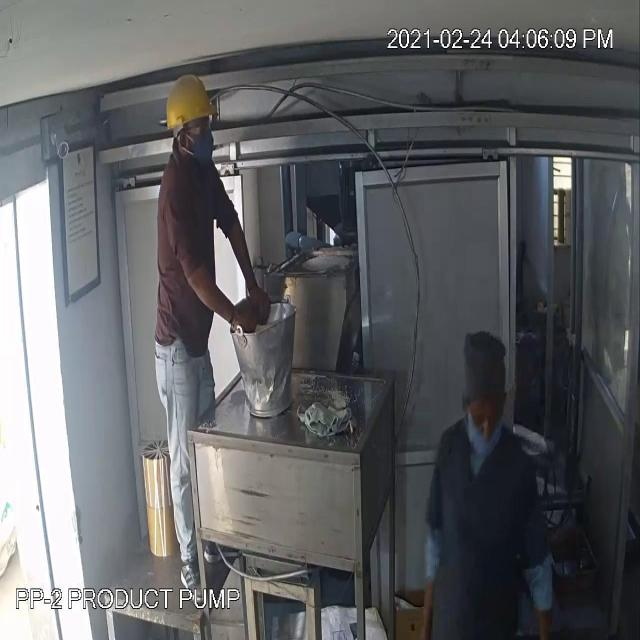helmet: (161, 72, 219, 137)
